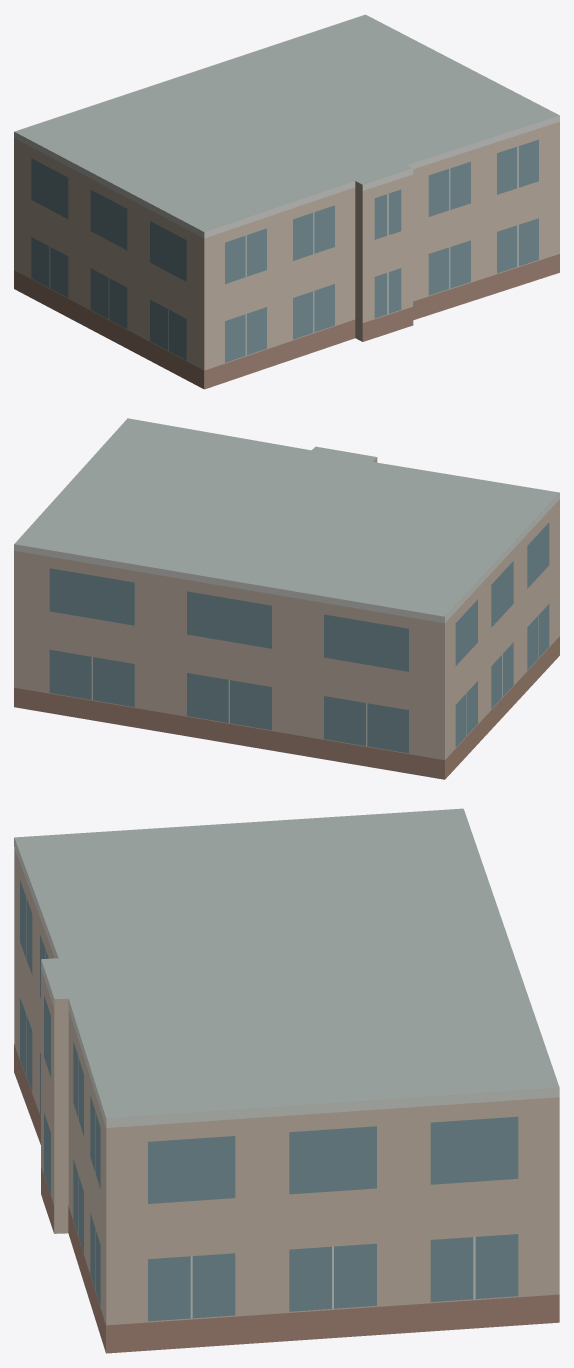
The model's file is survey-upis-32697882.glb.
3 views of the same model, one above another, from view 1: azimuth 30°, elevation 25°; view 2: azimuth 150°, elevation 25°; view 3: azimuth 270°, elevation 25° (orthographic). The views are drawn at different scales.
Parts seen in each view (by area): view 1: survey-upis-32697882.tmp; view 2: survey-upis-32697882.tmp; view 3: survey-upis-32697882.tmp.
Part boxes in pixels (x1,y1,x2,y2): survey-upis-32697882.tmp: (14, 14, 559, 389); survey-upis-32697882.tmp: (14, 418, 559, 779); survey-upis-32697882.tmp: (14, 808, 559, 1353).
Size of the model in its own units: 17.3 by 6.1 by 12.86.
